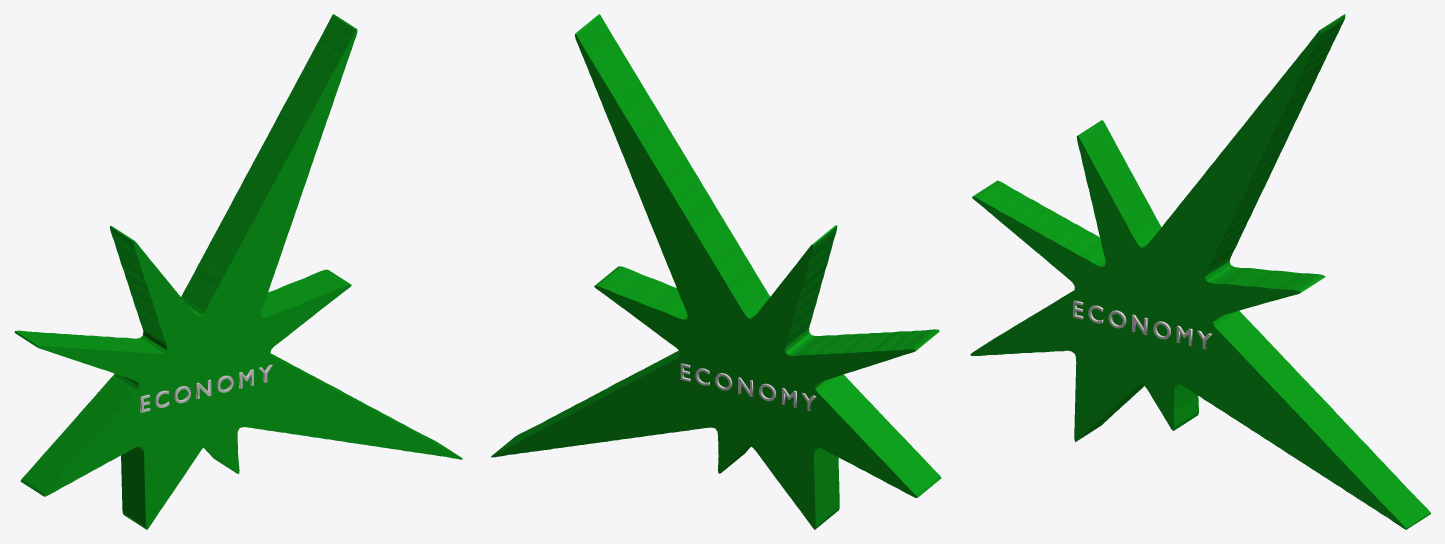
The picture shows the model from 3 angles, left to right: view 1: azimuth 30°, elevation 25°; view 2: azimuth 150°, elevation 25°; view 3: azimuth 330°, elevation 25°; orthographic projection. The views are drawn at different scales.
Parts seen in each view (by area): view 1: Plane, Efficiency Spark; view 2: Plane, Efficiency Spark.002; view 3: Plane, Efficiency Spark.
Boxes of the visible parts, bbox=[...] form: Plane: bbox=[14, 14, 462, 529]; Efficiency Spark: bbox=[140, 364, 272, 412]; Plane: bbox=[491, 14, 941, 529]; Efficiency Spark.002: bbox=[680, 363, 815, 410]; Plane: bbox=[970, 14, 1430, 529]; Efficiency Spark: bbox=[1073, 300, 1211, 349].
Bounding box in the file's own units: 13.92 × 14.17 × 2.04.
